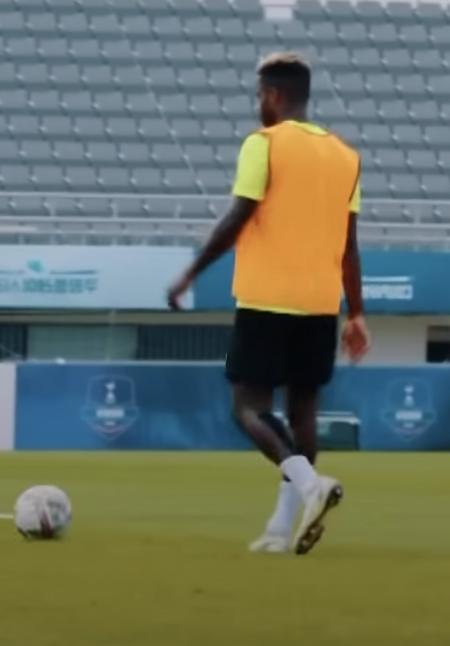ball: (15, 486, 71, 539)
foot: (292, 476, 342, 555)
person: (168, 56, 373, 552)
